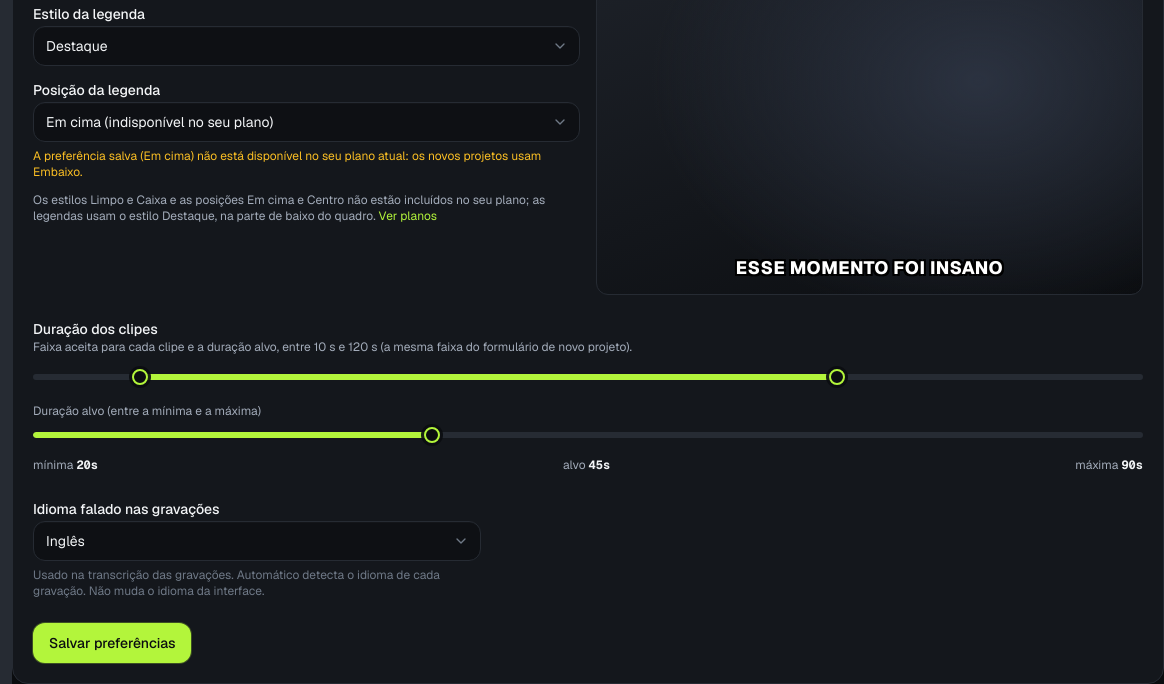
Settings → Preferências de edição › shows the API validation errors next to the fields
(page scrolled)
Click the button "Salvar preferências" at (112, 643), box [33, 623, 192, 663]
(page scrolled)
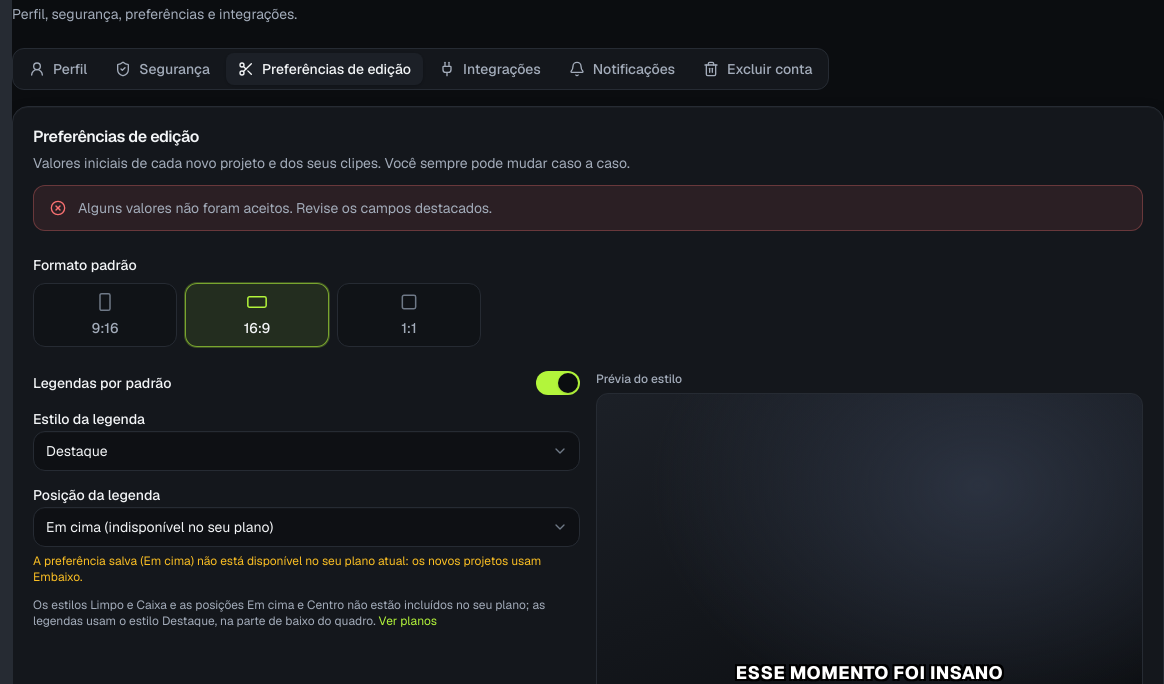
expect the text "Alguns valores não foram aceitos. Revise os campos destacados." is shown: met, box [78, 199, 492, 217]
